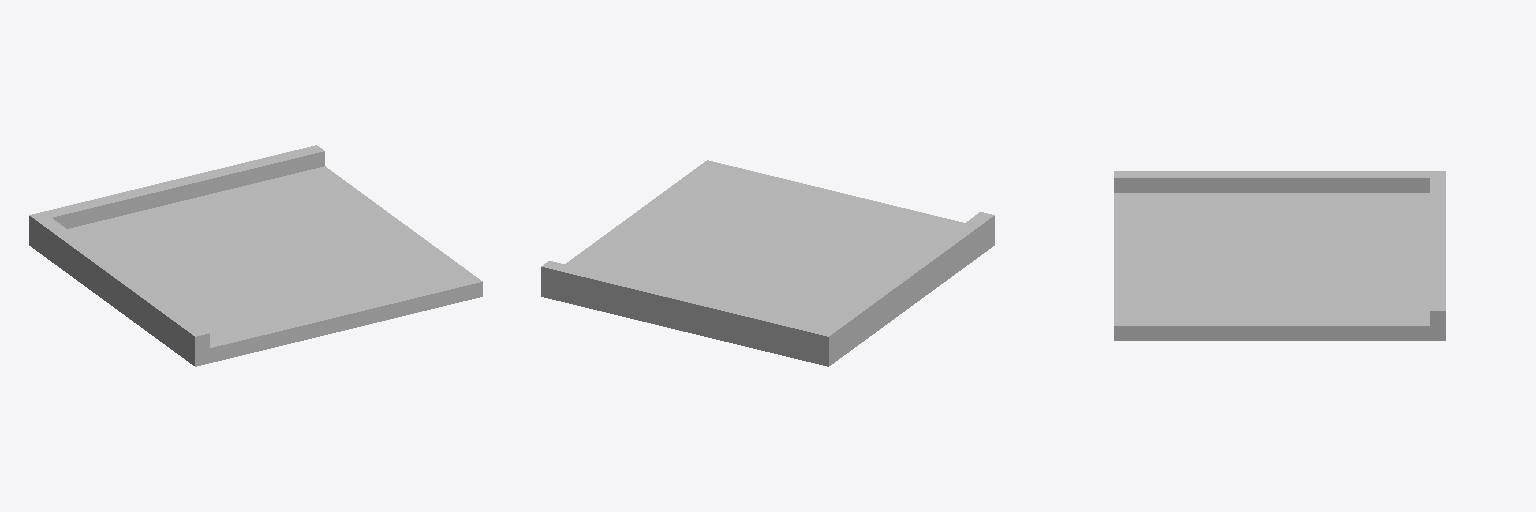
The model's file is road2.obj.
3 renders of one model, left to right at view 1: azimuth 30°, elevation 25°; view 2: azimuth 150°, elevation 25°; view 3: azimuth 270°, elevation 25°, orthographic.
Size of the model in its own units: 20 by 2 by 20.